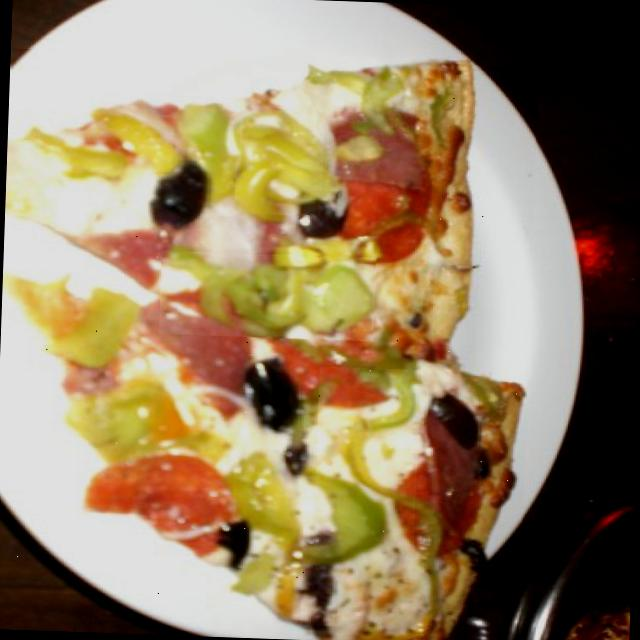Bell Pepper: (311, 366, 417, 582), (158, 249, 374, 340), (232, 105, 322, 216), (304, 57, 414, 135), (34, 110, 172, 172), (176, 101, 240, 163)
Olive: (146, 153, 209, 231), (242, 354, 301, 431), (298, 526, 336, 626), (426, 388, 480, 448), (296, 192, 338, 240), (217, 516, 255, 567), (284, 438, 310, 477)
pizza: (4, 64, 525, 640)
tomato: (86, 452, 235, 546)
